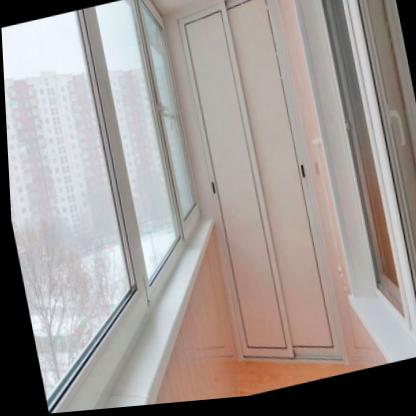Door: (173, 0, 336, 380)
Window: (1, 11, 131, 413), (94, 0, 179, 288), (357, 0, 416, 334), (142, 2, 194, 224)
